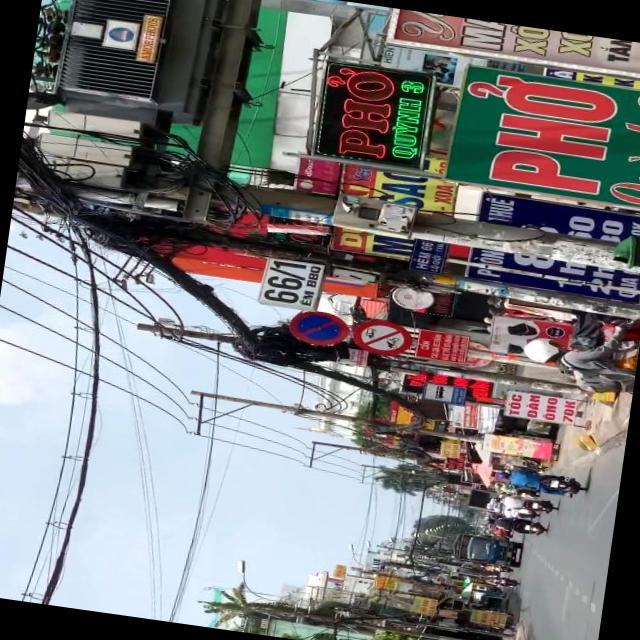P-131a: (288, 306, 349, 348)
